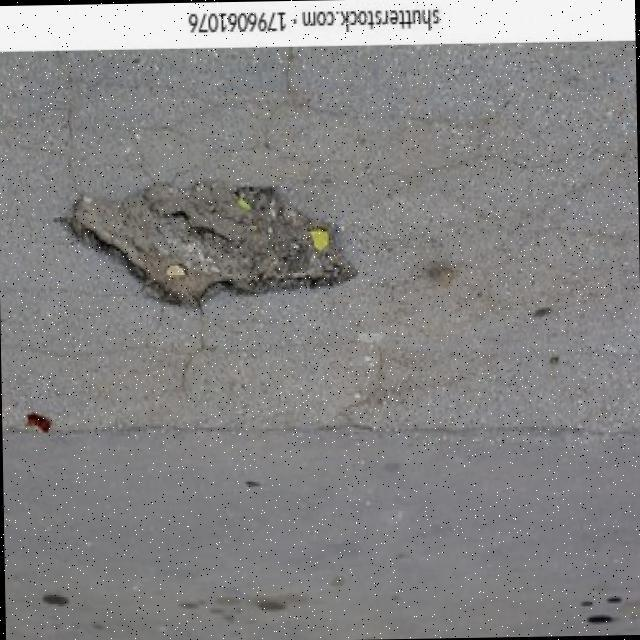Pothole: (61, 181, 356, 307)
